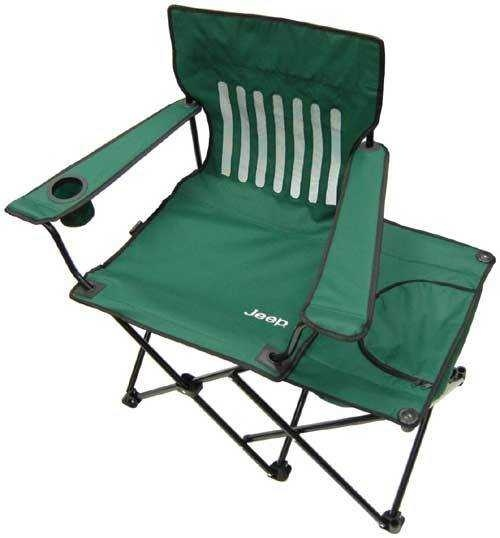obstacle: (0, 0, 498, 537)
